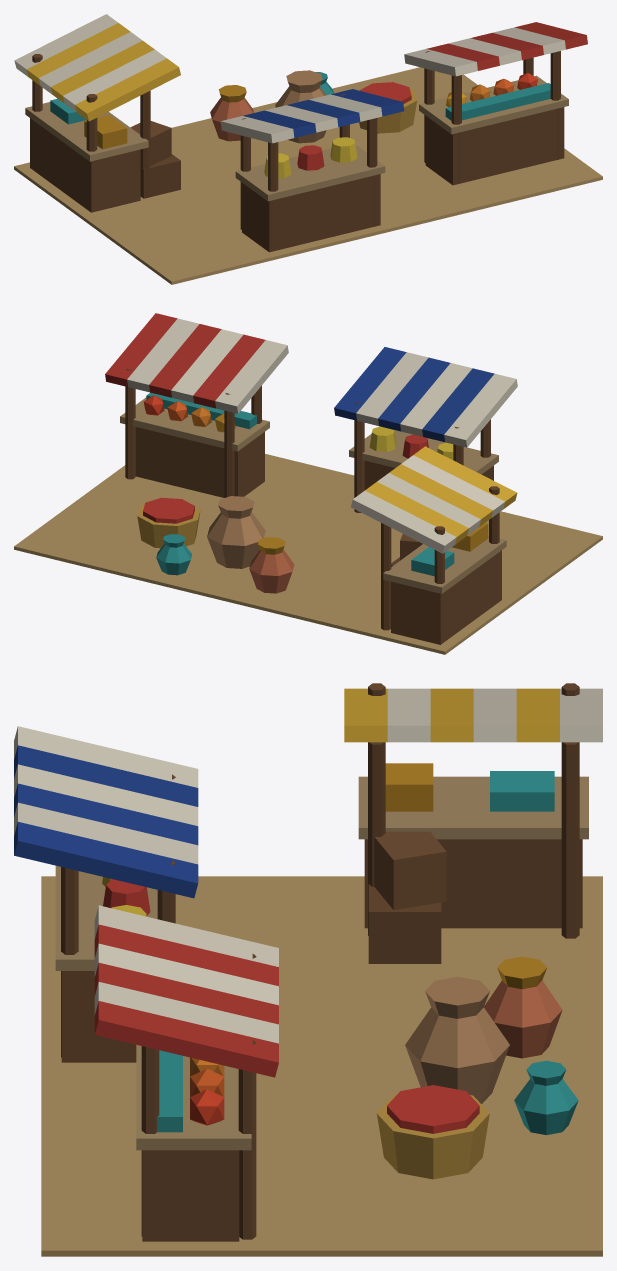
File: Decor_PharaohPyramid_Bazaar.fbx
3 renders of one model, top to bottom at view 1: azimuth 30°, elevation 25°; view 2: azimuth 150°, elevation 25°; view 3: azimuth 270°, elevation 25°, orthographic. The views are drawn at different scales.
Parts seen in each view (by area): view 1: Bazaar_Body; view 2: Bazaar_Body; view 3: Bazaar_Body.
Part boxes in pixels (x1,y1,x2,y2): Bazaar_Body: (14,14,602,284); Bazaar_Body: (14,313,602,654); Bazaar_Body: (14,683,602,1256).
Size of the model in its own units: 20.88 by 6.15 by 13.88.
